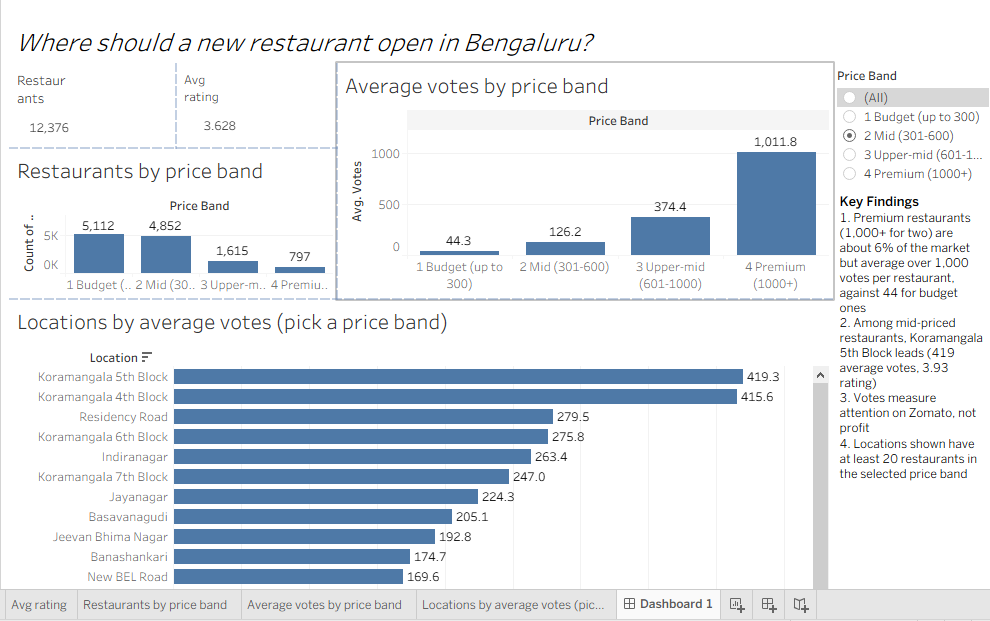

The page's visual inventory and layout, read from the dashboard file:
{"tool":"tableau","page":{"name":"Dashboard 1","canvas":[1000,950],"ordinal":0},"visuals":[{"type":"title","box":[8,8,984,59]},{"type":"worksheet","title":"Restaurants","mark":"Automatic","box":[8,67,166.8,84.8]},{"type":"worksheet","title":"Avg rating","mark":"Automatic","box":[174.8,67,161.3,84.8]},{"type":"worksheet","title":"Average votes by price band","mark":"Automatic","rows":["votes"],"cols":["price_band"],"box":[336.2,67,495.8,236]},{"type":"filter","title":"Locations by average votes (pick a price band)","param":"[federated.0mfj1n41msq02j12ikw181k6ca0n].[none:price_band:nk]","box":[832,67,160,127]},{"type":"worksheet","title":"Restaurants by price band","mark":"Automatic","rows":["zomato_dashboard.csv_ECC61B58DD8742D39F9C45974C5B0E8A"],"cols":["price_band"],"box":[8,151.8,328.2,151.2]},{"type":"text","box":[832,194,160,312]},{"type":"worksheet","title":"Locations by average votes (pick a price band)","mark":"Automatic","rows":["location"],"cols":["votes"],"box":[8,303,824,639]}]}

Visuals, with their boxes on the page's 1000x950 design canvas (x1, y1, x2, y2). These are canvas units, not pixel positions in the 990x621 screenshot, which may show the page scaled, cropped or inside an application window:
title: left=8, top=8, right=992, bottom=67
"Restaurants" worksheet: left=8, top=67, right=175, bottom=152
"Avg rating" worksheet: left=175, top=67, right=336, bottom=152
"Average votes by price band" worksheet: left=336, top=67, right=832, bottom=303
"Locations by average votes (pick a price band)" filter: left=832, top=67, right=992, bottom=194
"Restaurants by price band" worksheet: left=8, top=152, right=336, bottom=303
text: left=832, top=194, right=992, bottom=506
"Locations by average votes (pick a price band)" worksheet: left=8, top=303, right=832, bottom=942
